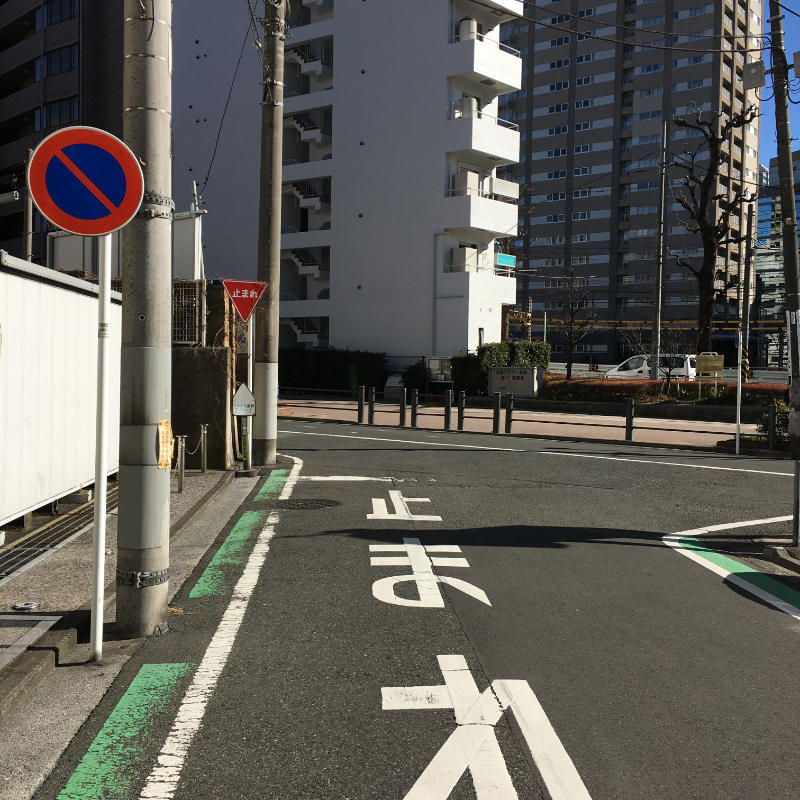STOP: (217, 275, 270, 324)
